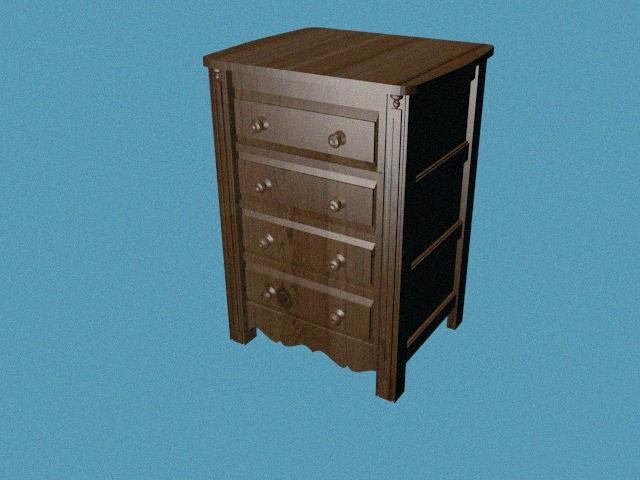cabinet_door: (234, 100, 378, 158), (238, 166, 376, 217), (242, 226, 375, 273), (245, 281, 374, 320)
handle: (320, 246, 352, 274), (253, 230, 279, 258), (324, 305, 350, 331), (324, 191, 352, 215), (251, 172, 276, 198), (326, 126, 349, 152), (259, 279, 279, 306), (249, 113, 271, 136)
